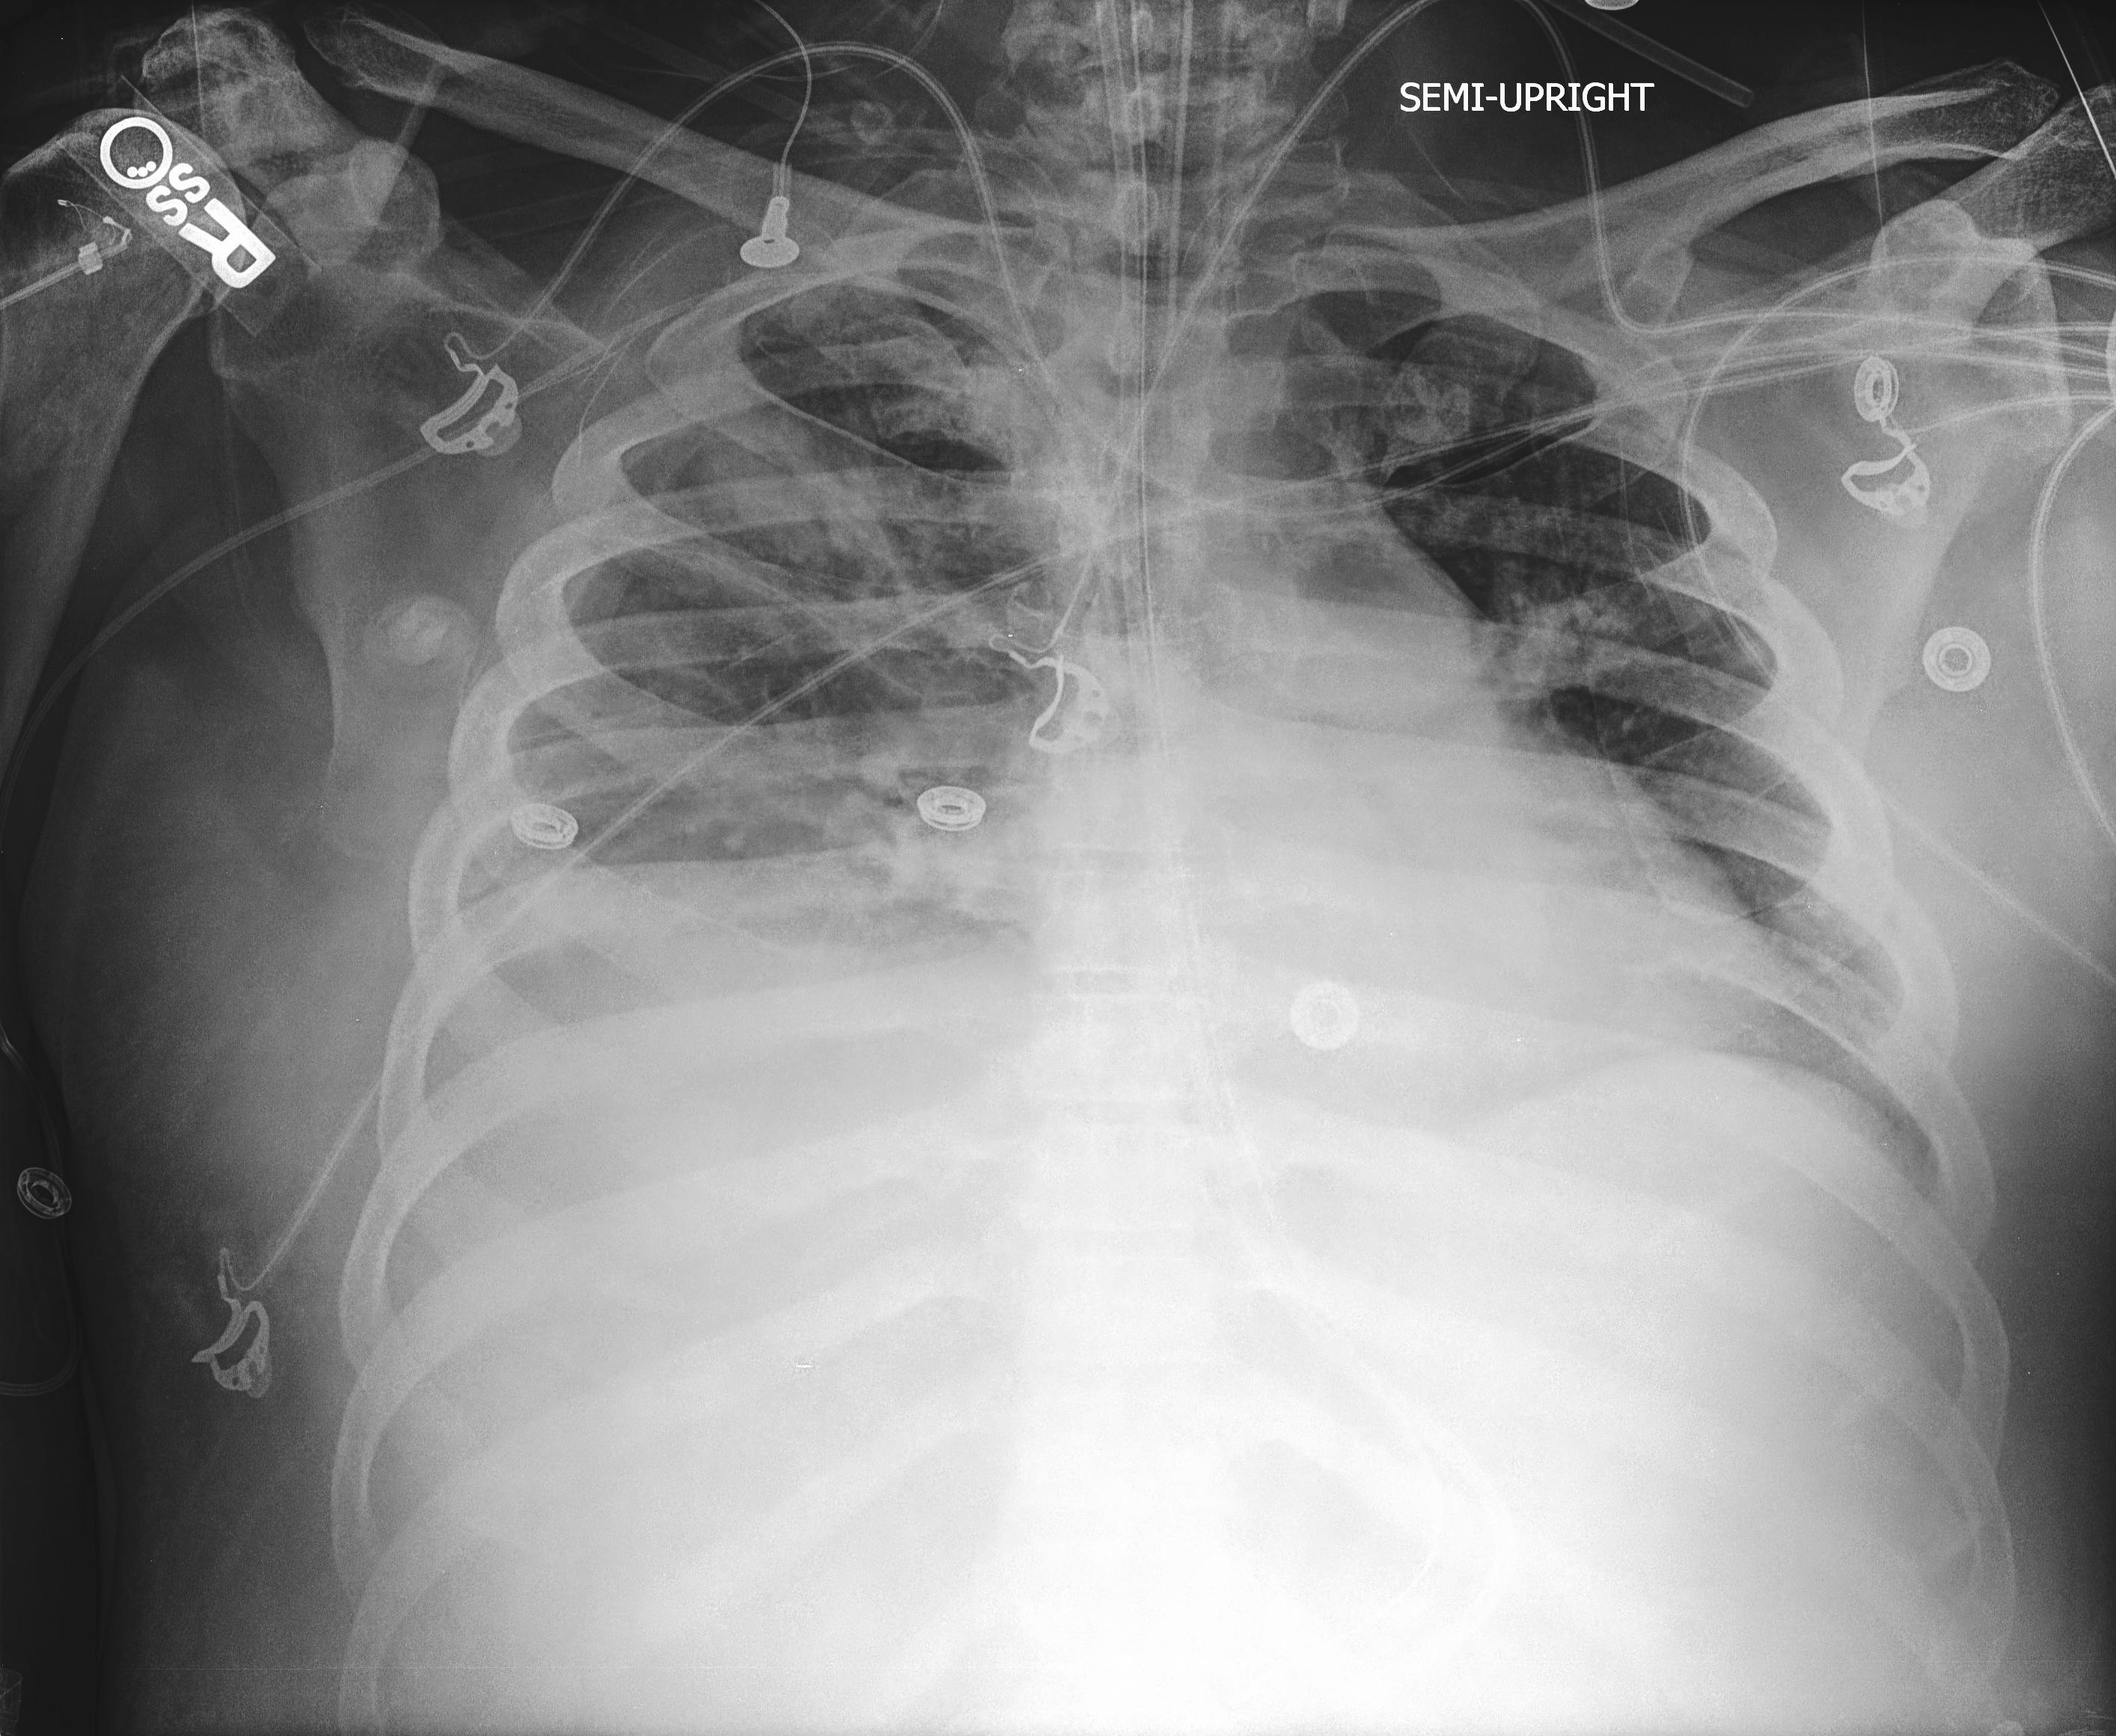Pleural Effusion: (327, 789, 984, 1409)
